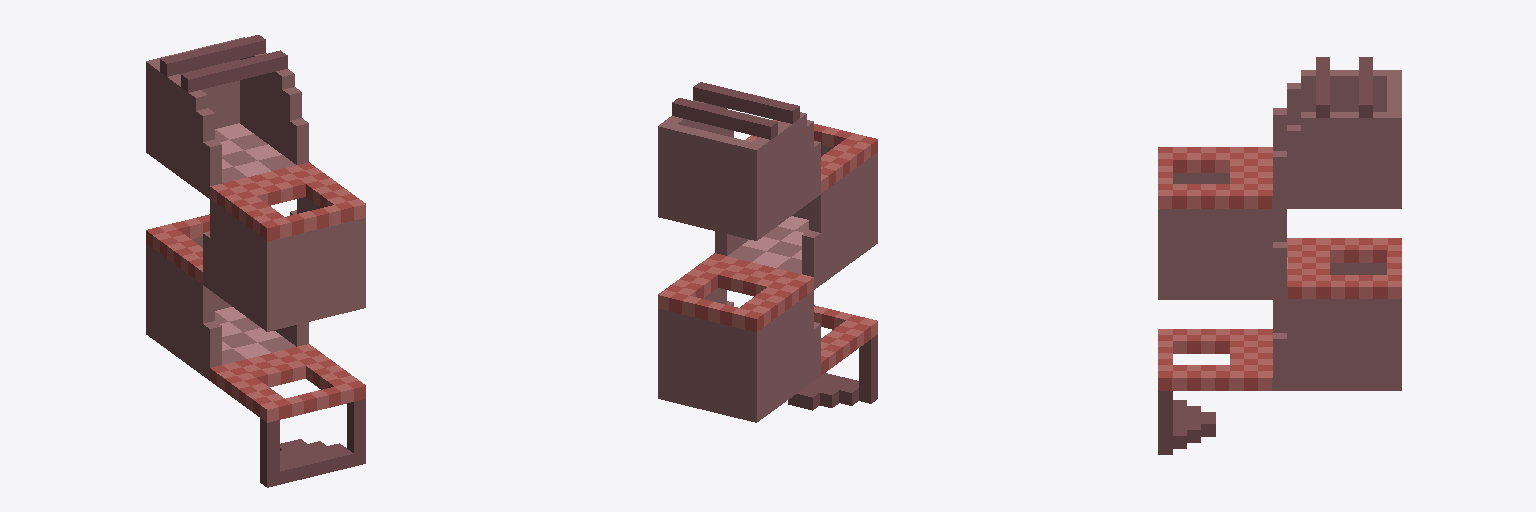
The picture shows the model from 3 angles: view 1: azimuth 30°, elevation 25°; view 2: azimuth 150°, elevation 25°; view 3: azimuth 270°, elevation 25°; orthographic projection.
Parts seen in each view (by area): view 1: boxes.001; view 2: boxes.001; view 3: boxes.001.
Part boxes in pixels (x1,y1,x2,y2): boxes.001: (146, 35, 365, 487); boxes.001: (658, 82, 877, 422); boxes.001: (1158, 57, 1401, 454).
Bounding box in the file's own units: 0.8 × 2.7 × 1.7.
1 materials, 1 textured.